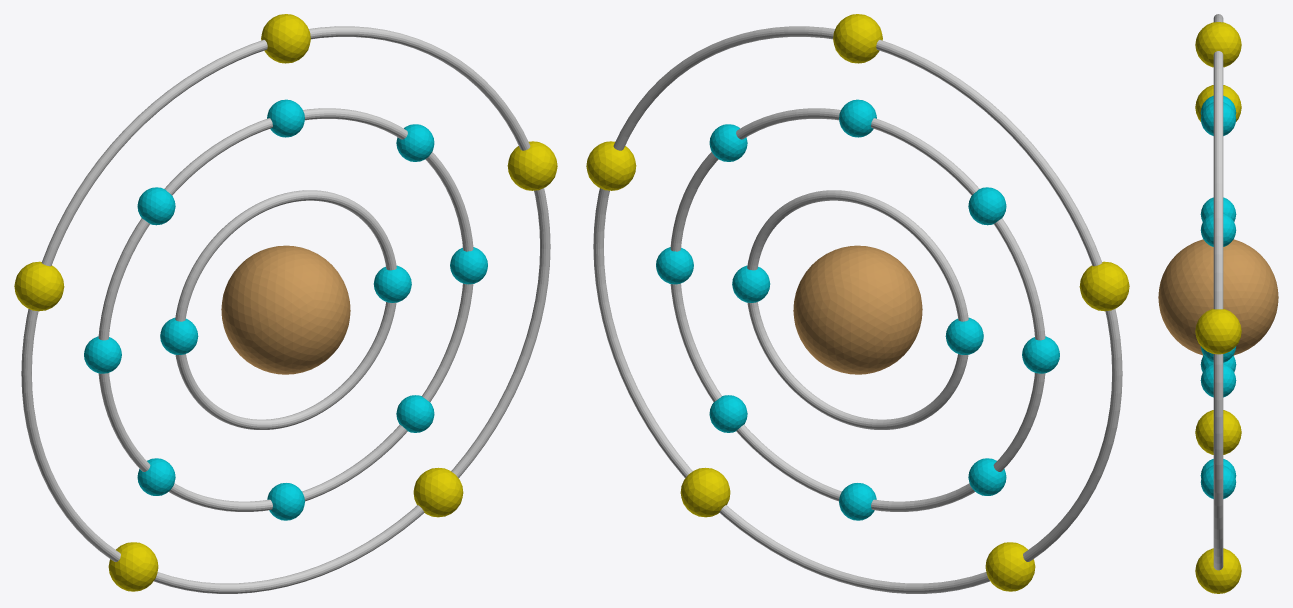
The picture shows the model from 3 angles, left to right: view 1: azimuth 30°, elevation 25°; view 2: azimuth 150°, elevation 25°; view 3: azimuth 270°, elevation 25°; orthographic projection. The views are drawn at different scales.
Parts seen in each view (by area): view 1: Camada_3, Nucleo_P, Camada_2, Camada_1, Eletron_Valencia_5, Eletron_Valencia_3, Eletron_Valencia_2, Eletron_Valencia_1, Eletron_Valencia_4, Eletron_C2_4, Eletron_C2_8, Eletron_C1_2 (+7 smaller); view 2: Camada_3, Nucleo_P, Camada_2, Camada_1, Eletron_Valencia_5, Eletron_Valencia_3, Eletron_Valencia_2, Eletron_Valencia_1, Eletron_Valencia_4, Eletron_C2_4, Eletron_C2_8, Eletron_C1_2 (+7 smaller); view 3: Nucleo_P, Camada_3, Eletron_Valencia_1, Eletron_Valencia_2, Eletron_Valencia_5, Eletron_Valencia_4, Eletron_C2_2, Eletron_C2_1, Eletron_C2_3, Eletron_C2_8, Eletron_Valencia_3, Eletron_C2_5 (+4 smaller).
Part boxes in pixels (left/top/right/bottom): Camada_3: left=21, top=26, right=550, bottom=593; Nucleo_P: left=221, top=245, right=350, bottom=374; Camada_2: left=98, top=108, right=473, bottom=511; Camada_1: left=175, top=190, right=396, bottom=429; Eletron_Valencia_5: left=413, top=467, right=463, bottom=517; Eletron_Valencia_3: left=14, top=261, right=64, bottom=311; Eletron_Valencia_2: left=261, top=14, right=310, bottom=63; Eletron_Valencia_1: left=507, top=141, right=557, bottom=190; Eletron_Valencia_4: left=108, top=542, right=158, bottom=591; Eletron_C2_4: left=137, top=187, right=175, bottom=225; Eletron_C2_8: left=396, top=395, right=434, bottom=432; Eletron_C1_2: left=160, top=317, right=198, bottom=354; Camada_3: left=593, top=26, right=1122, bottom=593; Nucleo_P: left=793, top=245, right=922, bottom=374; Camada_2: left=670, top=108, right=1045, bottom=511; Camada_1: left=747, top=190, right=968, bottom=429; Eletron_Valencia_5: left=680, top=467, right=730, bottom=517; Eletron_Valencia_3: left=1079, top=261, right=1129, bottom=311; Eletron_Valencia_2: left=833, top=14, right=882, bottom=63; Eletron_Valencia_1: left=586, top=141, right=636, bottom=190; Eletron_Valencia_4: left=985, top=542, right=1035, bottom=591; Eletron_C2_4: left=968, top=187, right=1006, bottom=225; Eletron_C2_8: left=709, top=395, right=747, bottom=432; Eletron_C1_2: left=945, top=317, right=983, bottom=354; Nucleo_P: left=1158, top=239, right=1278, bottom=355; Camada_3: left=1213, top=14, right=1223, bottom=570; Eletron_Valencia_1: left=1195, top=309, right=1241, bottom=354; Eletron_Valencia_2: left=1195, top=22, right=1241, bottom=67; Eletron_Valencia_5: left=1195, top=548, right=1241, bottom=593; Eletron_Valencia_4: left=1195, top=410, right=1241, bottom=454; Eletron_C2_2: left=1200, top=213, right=1236, bottom=246; Eletron_C2_1: left=1200, top=363, right=1236, bottom=397; Eletron_C2_3: left=1200, top=102, right=1236, bottom=135; Eletron_C2_8: left=1200, top=465, right=1236, bottom=498; Eletron_Valencia_3: left=1195, top=85, right=1241, bottom=121; Eletron_C2_5: left=1200, top=197, right=1236, bottom=221.
Bounding box in the file's own units: 2.11 × 2.14 × 0.44.
